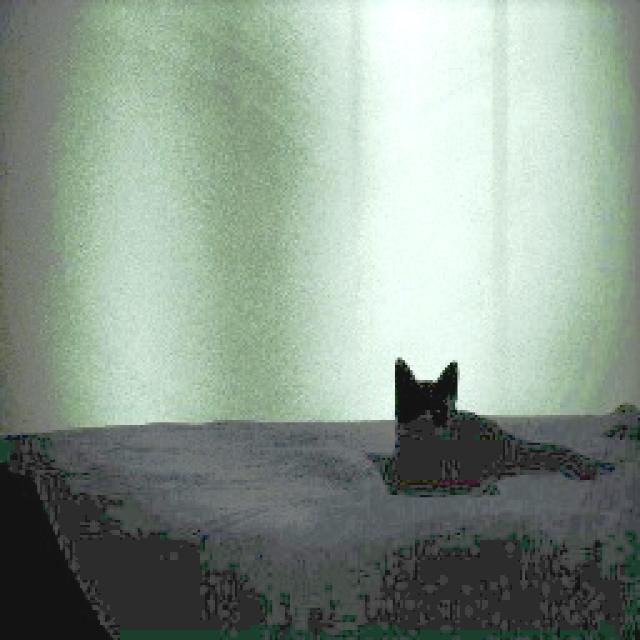cat: (356, 344, 612, 522)
